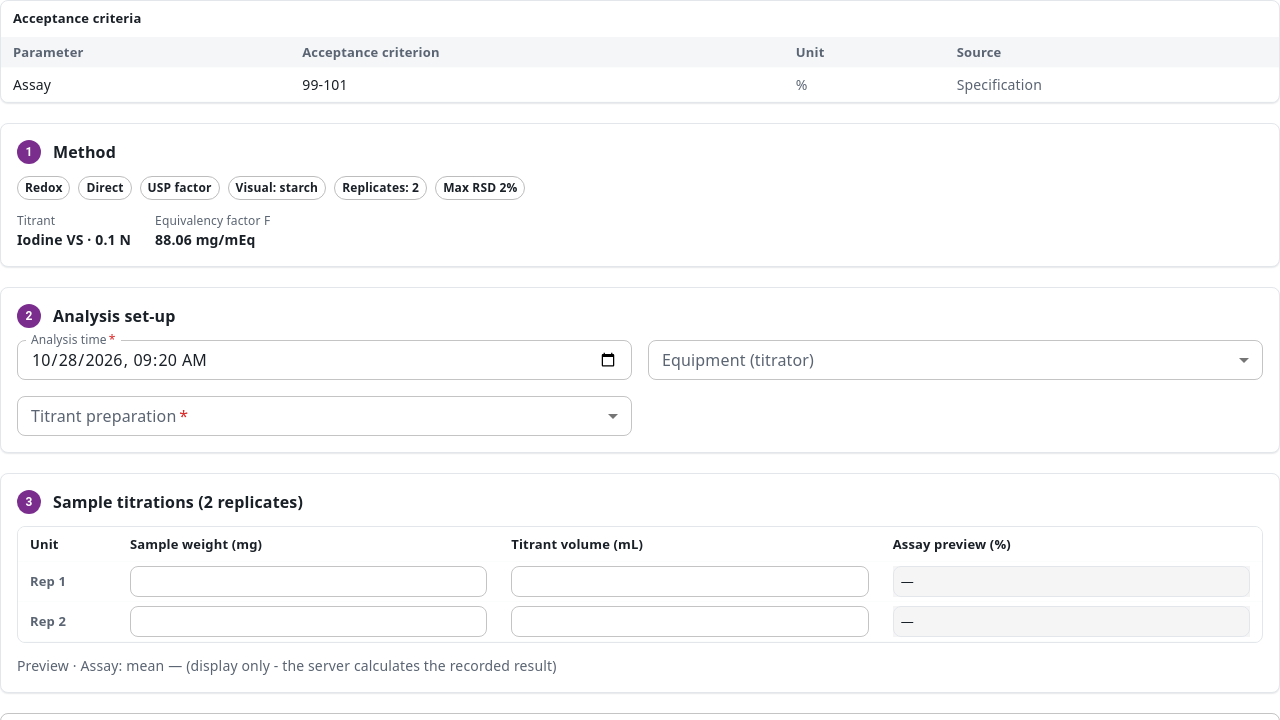
Test: TitrationPanel › disables blocked titrant options and shows the reason
Expected: the text "Method" is shown, [53,140,116,164]
Click the dropdown named "Titrant preparation" next to "Titrant preparation". click: (324, 416)
box: [17,396,632,436]
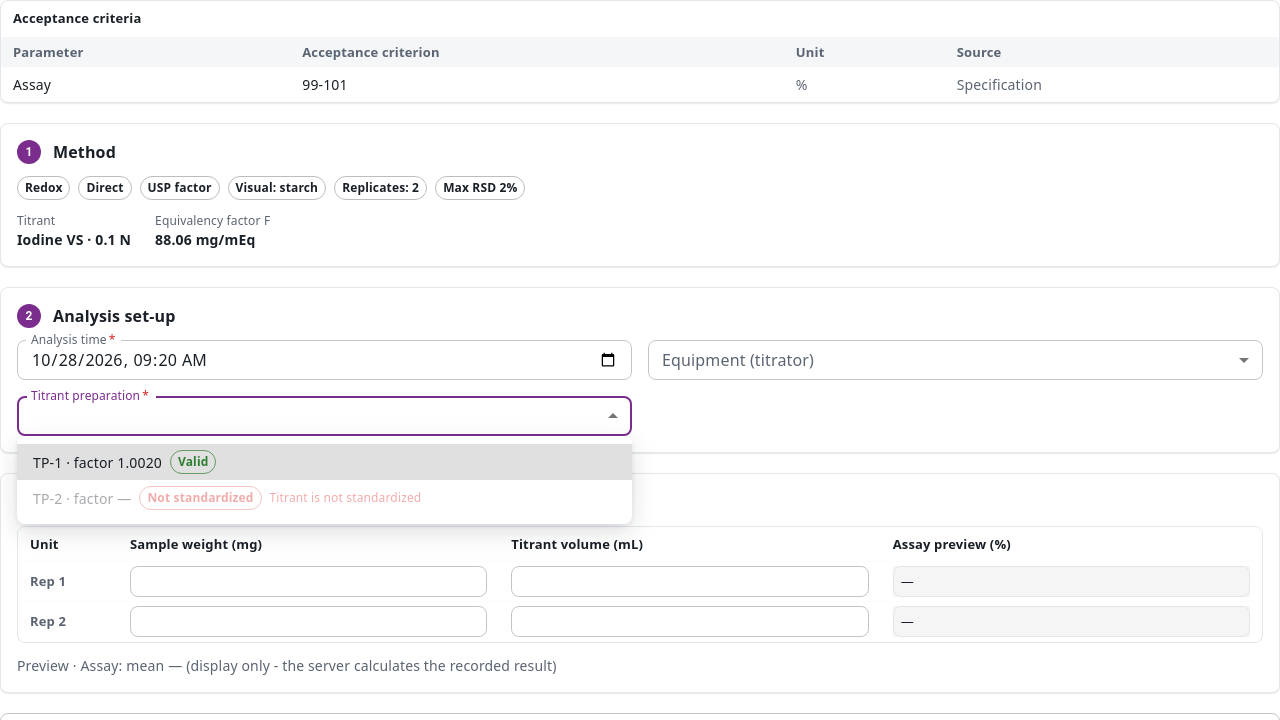
Now the text "Titrant is not standardized" is shown, box [270,489,421,507]
